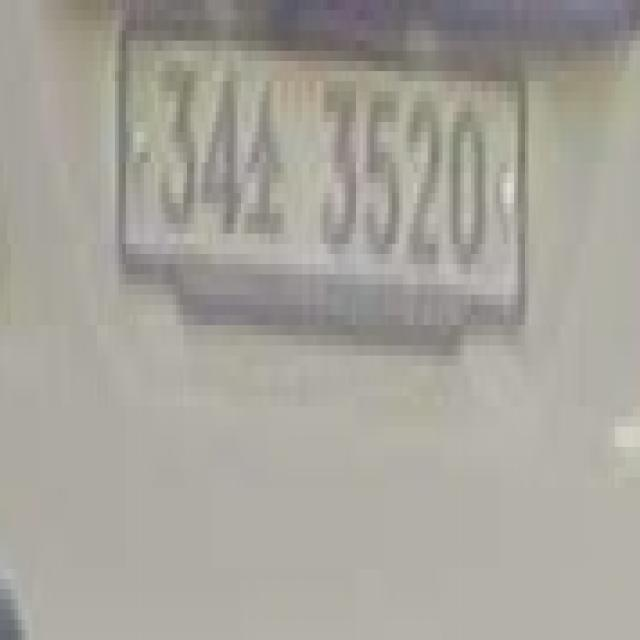0: (446, 92, 485, 274)
2: (402, 81, 438, 264)
3: (162, 50, 201, 234), (320, 81, 360, 254)
4: (198, 71, 244, 244)
5: (363, 81, 399, 264)
license_plate: (115, 11, 525, 346)
so: (248, 91, 284, 244)
